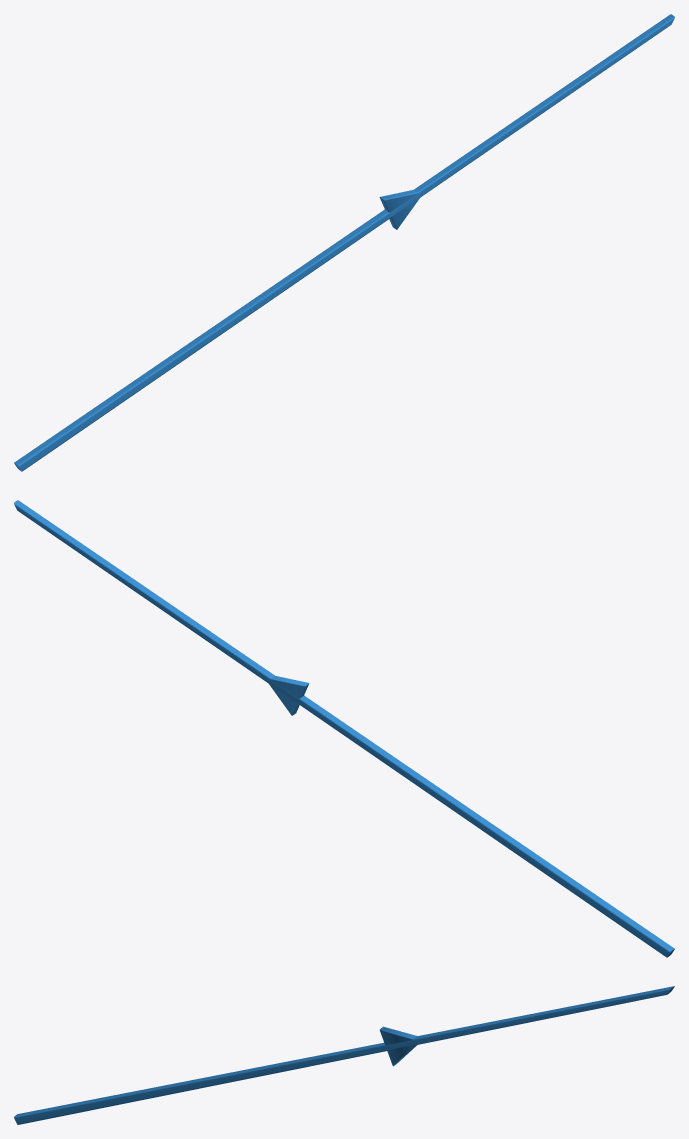
File: Line_Arrow.glb
3 renders of one model, top to bottom at view 1: azimuth 30°, elevation 25°; view 2: azimuth 150°, elevation 25°; view 3: azimuth 330°, elevation 25°, orthographic.
Visible parts, largest first — view 1: Line_Arrow; view 2: Line_Arrow; view 3: Line_Arrow.
Part boxes in pixels (x1,y1,x2,y2): Line_Arrow: [14, 14, 674, 471]; Line_Arrow: [14, 500, 674, 957]; Line_Arrow: [14, 986, 674, 1124].
Size of the model in its own units: 7.18 by 3.09 by 0.0907.
